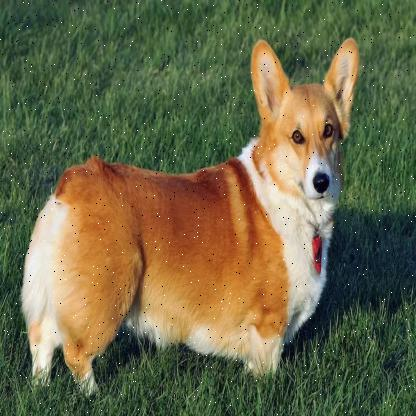dog: (13, 34, 361, 397)
